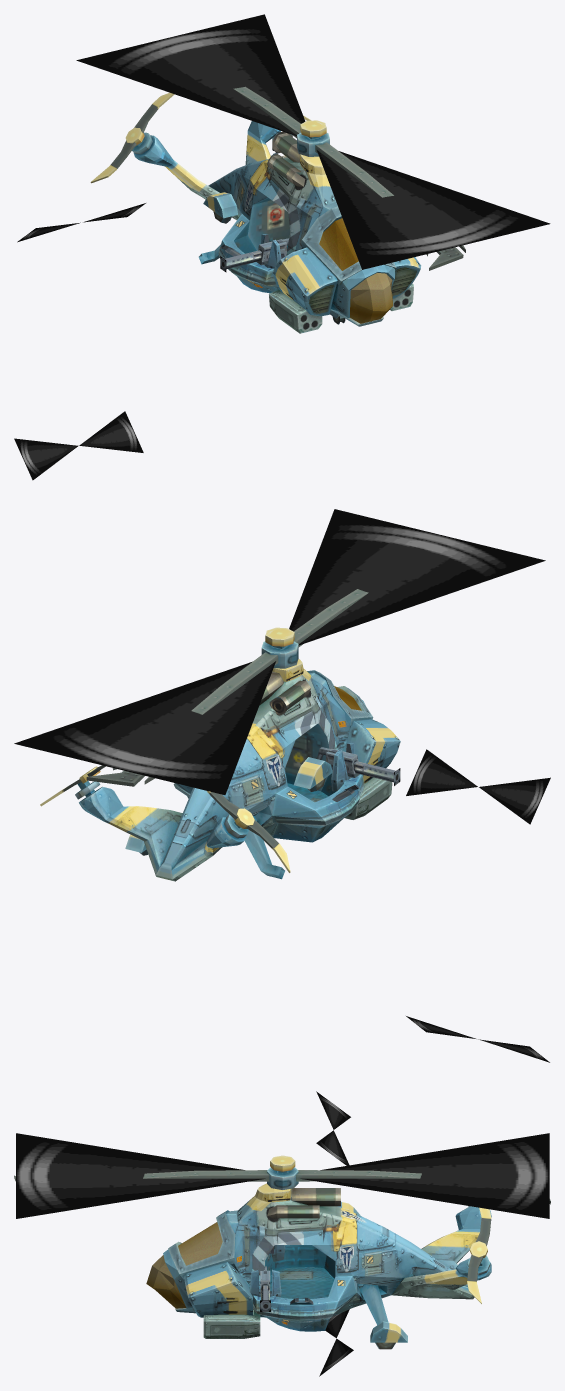
File: VXGSHPH.bgf.obj
The picture shows the model from 3 angles, top to bottom: view 1: azimuth 30°, elevation 25°; view 2: azimuth 150°, elevation 25°; view 3: azimuth 270°, elevation 25°; orthographic projection. The views are drawn at different scales.
Parts seen in each view (by area): view 1: MAIN_ROTOR_FAST, VXGSHP, GLASS, TAIL_ROTOR_FAST, MAIN_ROTOR_SLOW, ROCKETPOD01, BARREL02, TAIL_ROTOR_SLOW, ROTOR, RWHEEL, TAIL_ROTOR_FAST01; view 2: MAIN_ROTOR_FAST, VXGSHP, TAIL_ROTOR_FAST01, MAIN_ROTOR_SLOW, BARREL02, TAIL_ROTOR_SLOW, ROTOR, ROCKETPOD01, RWHEEL, R_SUPPORT, TAIL_ROTOR_FAST; view 3: VXGSHP, MAIN_ROTOR_FAST, MAIN_ROTOR_SLOW, GLASS, ROCKETPOD, TAIL_ROTOR_SLOW01, TAIL_ROTOR_FAST01, BARREL01, ROTOR, TAIL_ROTOR_FAST, LWHEEL, L_SUPPORT.
Boxes of the visible parts, x1,y1,x2,y2 form: MAIN_ROTOR_FAST: (76, 14, 550, 269); VXGSHP: (133, 121, 421, 326); GLASS: (319, 218, 392, 323); TAIL_ROTOR_FAST: (14, 411, 143, 480); MAIN_ROTOR_SLOW: (233, 86, 465, 270); ROCKETPOD01: (269, 289, 322, 333); BARREL02: (220, 234, 289, 272); TAIL_ROTOR_SLOW: (90, 92, 174, 183); ROTOR: (297, 120, 329, 156); RWHEEL: (203, 192, 237, 223); TAIL_ROTOR_FAST01: (17, 203, 145, 242); MAIN_ROTOR_FAST: (14, 509, 545, 794); VXGSHP: (79, 659, 400, 881); TAIL_ROTOR_FAST01: (406, 749, 550, 824); MAIN_ROTOR_SLOW: (86, 589, 368, 786); BARREL02: (316, 743, 400, 791); TAIL_ROTOR_SLOW: (207, 791, 290, 872); ROTOR: (261, 627, 298, 668); ROCKETPOD01: (345, 777, 392, 819); RWHEEL: (294, 757, 332, 791); R_SUPPORT: (244, 816, 284, 879); TAIL_ROTOR_FAST: (406, 1016, 549, 1062); VXGSHP: (163, 1183, 491, 1331); MAIN_ROTOR_FAST: (16, 1133, 549, 1218); MAIN_ROTOR_SLOW: (14, 1170, 550, 1204); GLASS: (146, 1222, 222, 1308); ROCKETPOD: (203, 1309, 260, 1338); TAIL_ROTOR_SLOW01: (467, 1207, 491, 1303); TAIL_ROTOR_FAST01: (316, 1091, 350, 1165); BARREL01: (249, 1266, 281, 1311); ROTOR: (267, 1155, 298, 1189); TAIL_ROTOR_FAST: (319, 1309, 353, 1376); LWHEEL: (370, 1321, 407, 1349); L_SUPPORT: (359, 1284, 388, 1325).
Bounding box in the file's own units: 8.88 × 7.02 × 12.
Materials: 22 (22 with a texture image).
